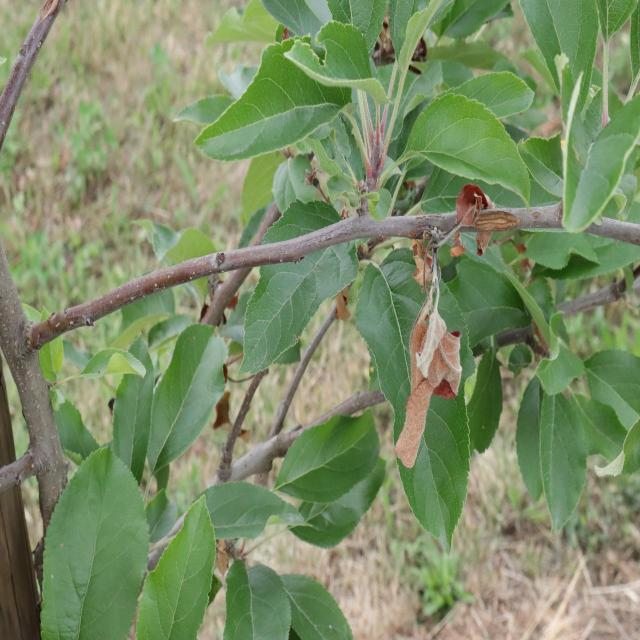-FireBlight-: (393, 174, 512, 463)
